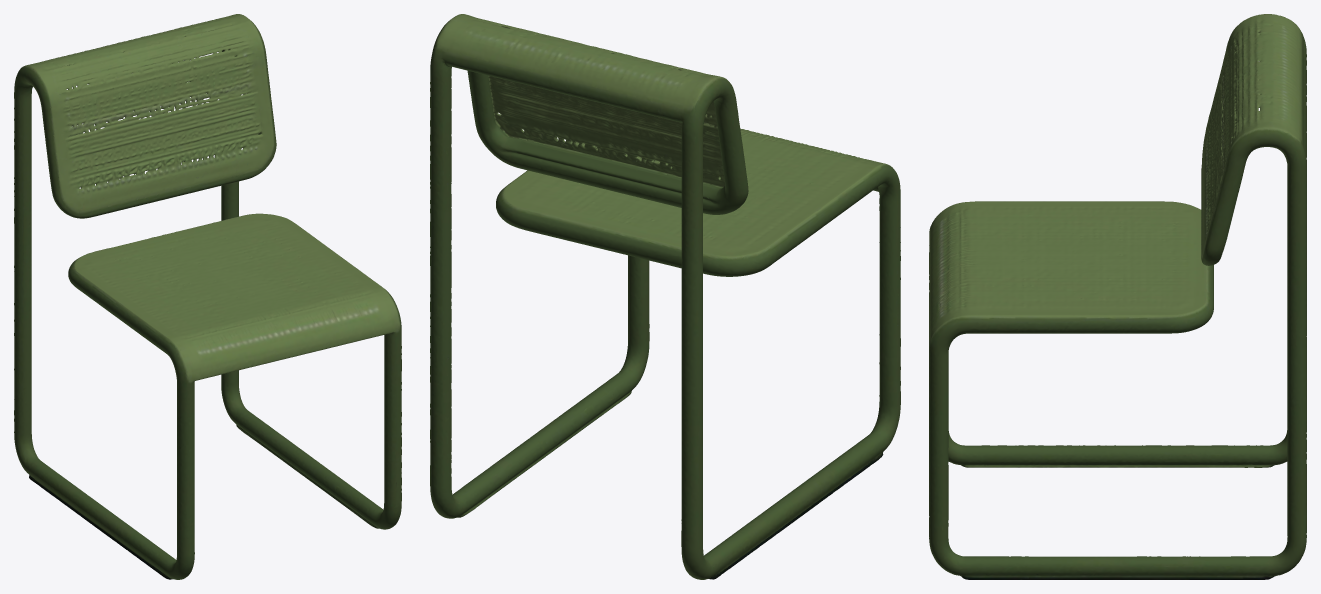
Rendered from Modern Perforated Metal Armless Chair [4sbJvd].glb.
The picture shows the model from 3 angles, left to right: view 1: azimuth 30°, elevation 25°; view 2: azimuth 150°, elevation 25°; view 3: azimuth 270°, elevation 25°; orthographic projection. The views are drawn at different scales.
Parts seen in each view (by area): view 1: world; view 2: world; view 3: world.
Boxes of the visible parts, box(x1,y1,x2,y2) form: world: box(14, 14, 401, 579); world: box(430, 14, 900, 579); world: box(929, 14, 1306, 579).
Size of the model in its own units: 0.5698 by 1 by 0.7626.
Materials: 1 (1 with a texture image).
